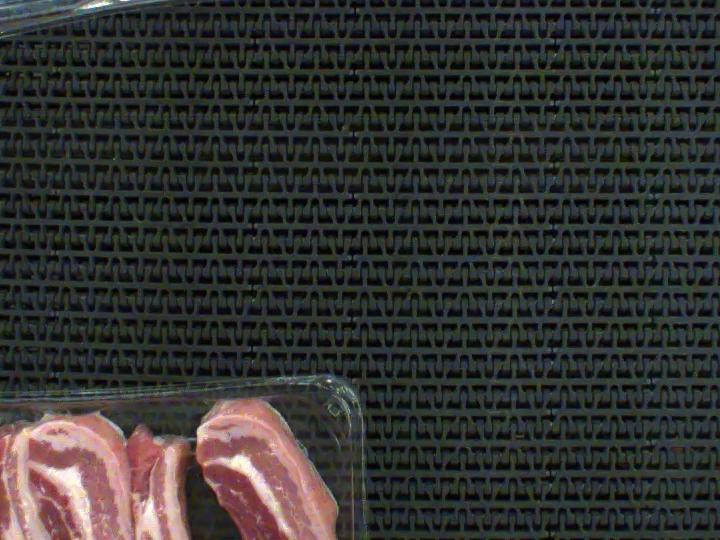loose-meat: (200, 405, 360, 540)
